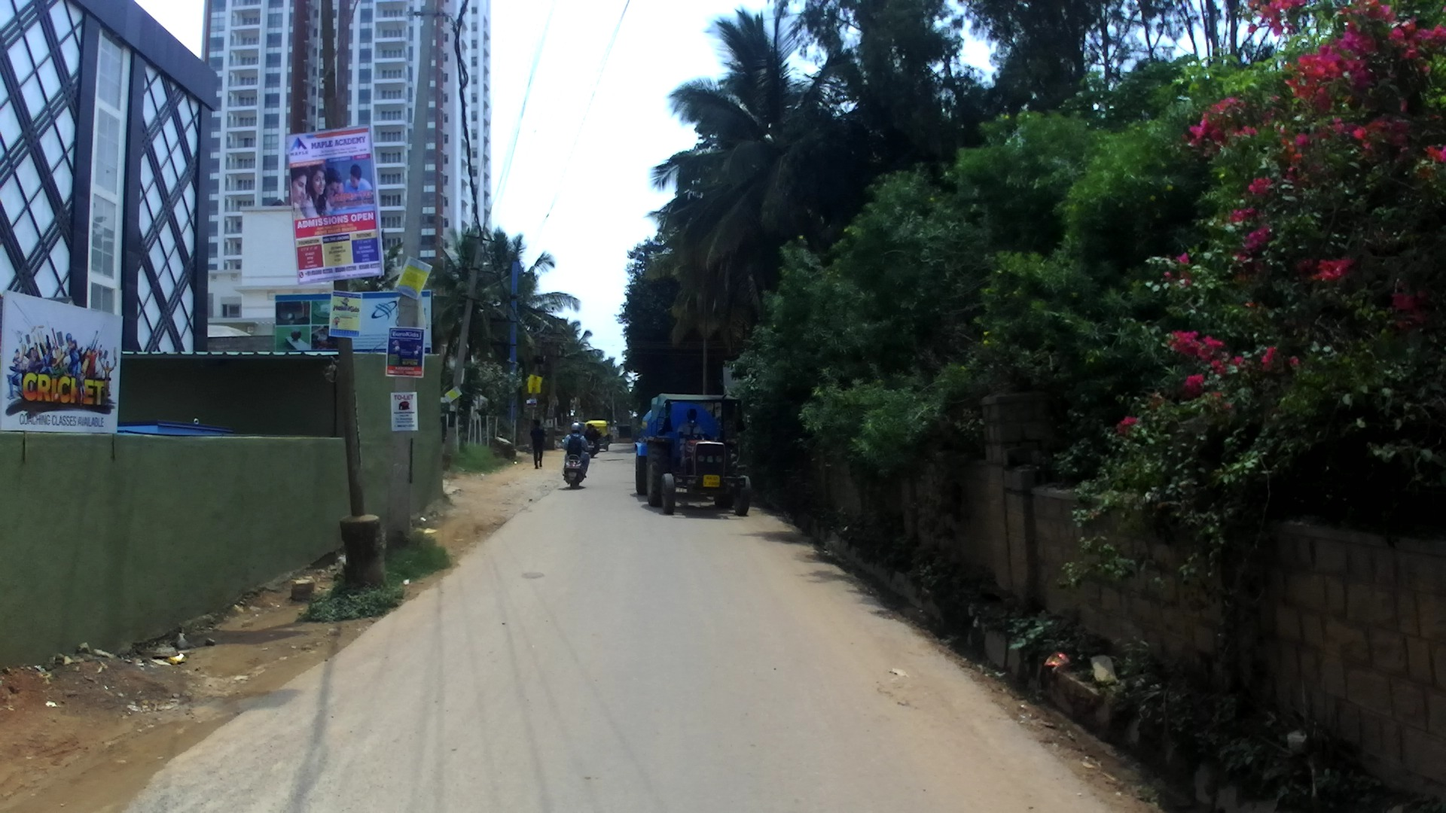autorickshaw: (584, 419, 609, 452)
motorcycle: (562, 437, 590, 489), (586, 433, 602, 458)
person: (529, 418, 546, 469)
rider: (677, 407, 707, 473), (561, 422, 590, 478), (584, 424, 598, 452), (591, 425, 600, 451)
truck: (618, 424, 633, 444)
vehicle fallback: (635, 393, 753, 516), (575, 422, 584, 447)
